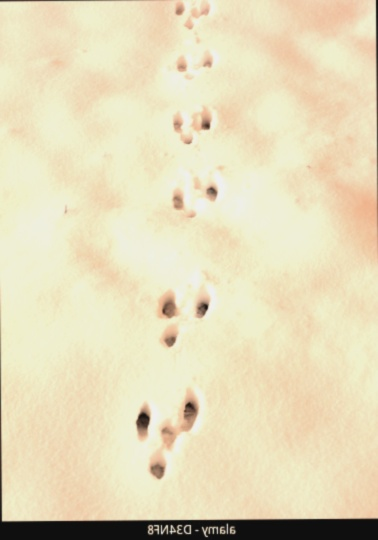lapin: (124, 376, 217, 495), (134, 263, 227, 357), (157, 161, 232, 225), (162, 94, 229, 154), (156, 36, 234, 81), (163, 0, 227, 32)
